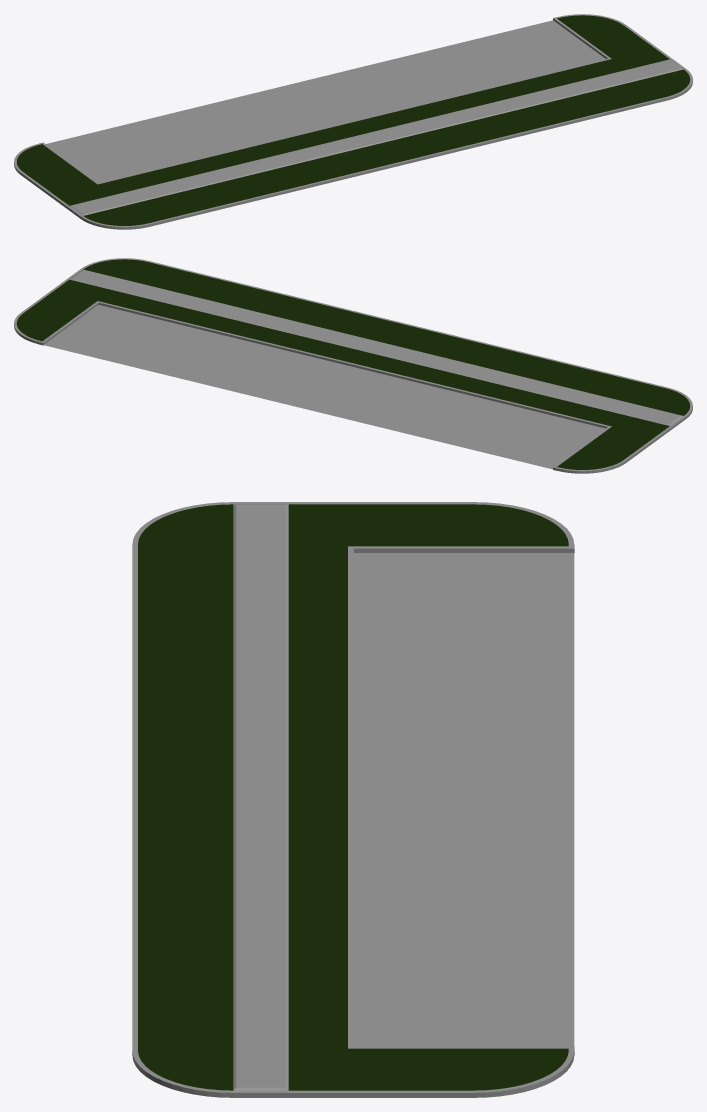
File: RT ParkIs V04.FBX
3 views of the same model, one above another, from view 1: azimuth 30°, elevation 25°; view 2: azimuth 150°, elevation 25°; view 3: azimuth 270°, elevation 25° (orthographic). The views are drawn at different scales.
Parts seen in each view (by area): view 1: RT ParkIs V04 HI, RT ParkIs Lines V04 S, RT ParkIs SideW V04; view 2: RT ParkIs V04 HI, RT ParkIs Lines V04 S, RT ParkIs SideW V04, RT ParkIs V04 LOW; view 3: RT ParkIs V04 HI, RT ParkIs Lines V04 S, RT ParkIs SideW V04, RT ParkIs V04 LOW.
Boxes of the visible parts, x1=… form: RT ParkIs V04 HI: x1=14, y1=14, x2=692, y2=229; RT ParkIs Lines V04 S: x1=46, y1=20, x2=605, y2=182; RT ParkIs SideW V04: x1=70, y1=59, x2=683, y2=215; RT ParkIs V04 HI: x1=14, y1=258, x2=692, y2=473; RT ParkIs Lines V04 S: x1=43, y1=305, x2=605, y2=469; RT ParkIs SideW V04: x1=70, y1=269, x2=683, y2=425; RT ParkIs V04 LOW: x1=15, y1=302, x2=679, y2=473; RT ParkIs V04 HI: x1=132, y1=502, x2=574, y2=1097; RT ParkIs Lines V04 S: x1=353, y1=553, x2=574, y2=1046; RT ParkIs SideW V04: x1=233, y1=504, x2=288, y2=1090; RT ParkIs V04 LOW: x1=233, y1=528, x2=574, y2=1097.
Size of the model in its own units: 37.96 by 0.1906 by 12.01.
